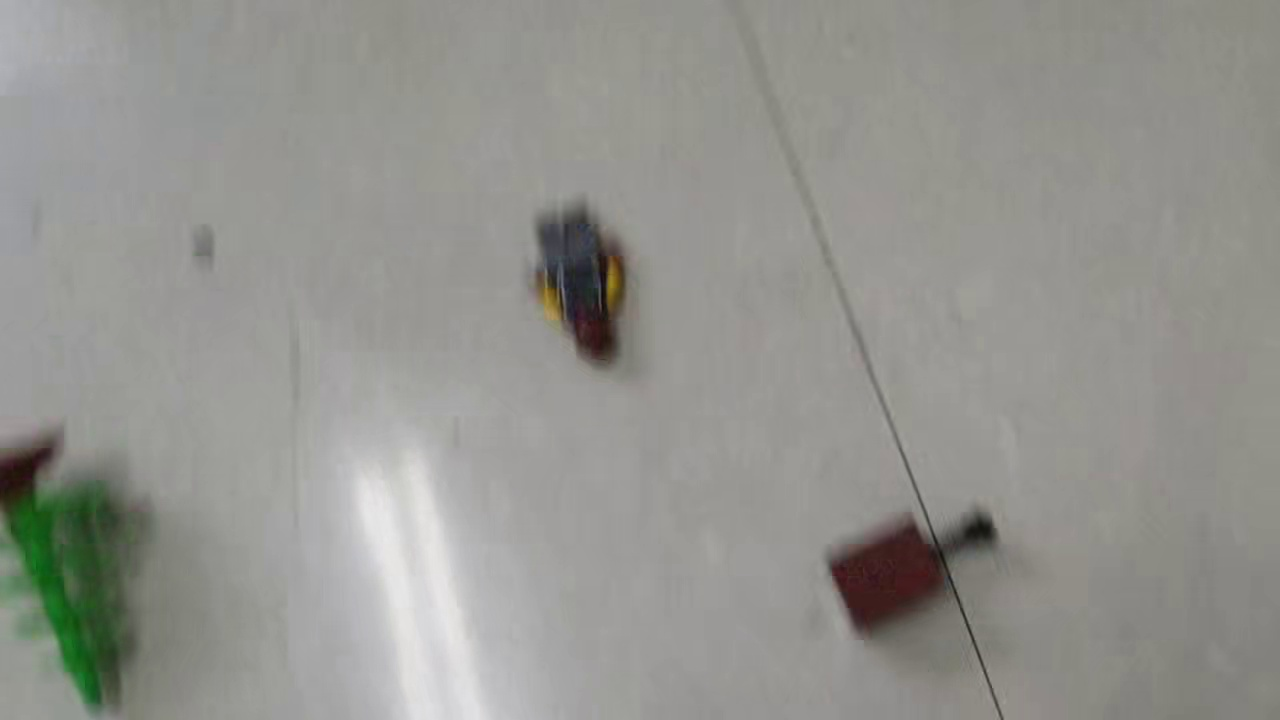box: (821, 502, 1003, 641)
people: (525, 197, 637, 367)
tree: (1, 419, 169, 720)
